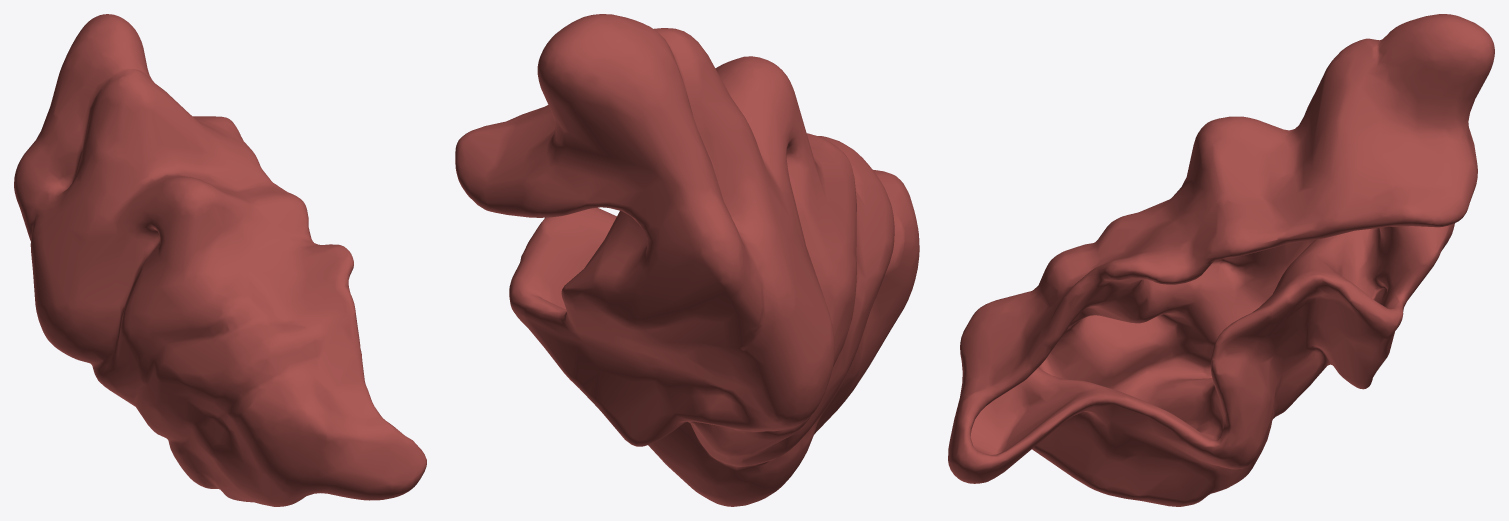
The model's file is FMA72701.glb.
The picture shows the model from 3 angles, left to right: view 1: azimuth 30°, elevation 25°; view 2: azimuth 150°, elevation 25°; view 3: azimuth 270°, elevation 25°; orthographic projection. The views are drawn at different scales.
Visible parts, largest first — view 1: FMA72701; view 2: FMA72701; view 3: FMA72701.
Boxes of the visible parts, left/top/right/bottom form: FMA72701: left=14, top=14, right=426, bottom=506; FMA72701: left=455, top=14, right=919, bottom=506; FMA72701: left=948, top=14, right=1494, bottom=506.
Bounding box in the file's own units: 0.0334 × 0.0577 × 0.06.
